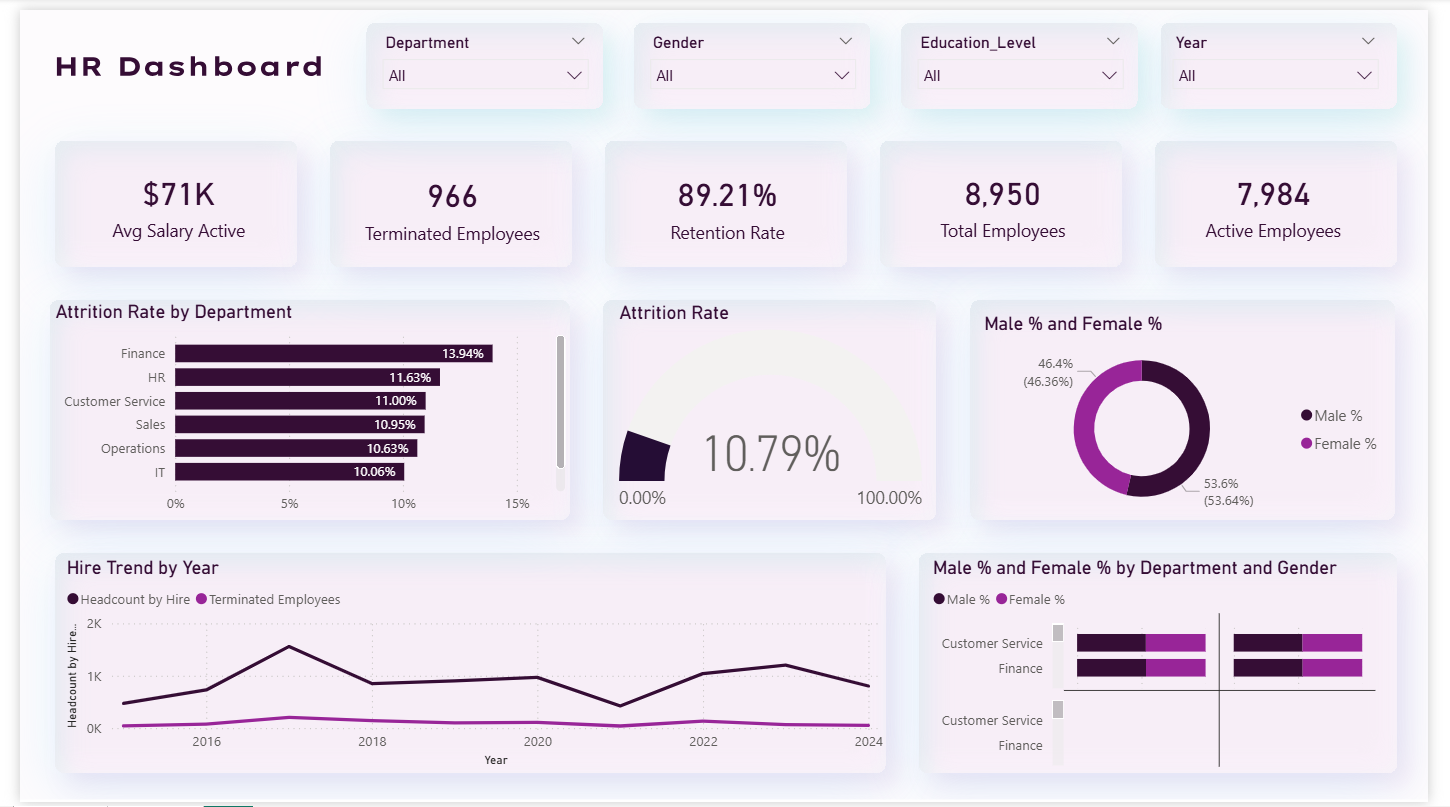

What the dashboard file says about the page in this screenshot:
{"tool":"powerbi","page":{"name":"Page 1","canvas":[1280,720],"ordinal":0},"visuals":[{"type":"card","fields":{"Values":["HR_dataset.Total Employees"]},"box":[789,123.5,209.9,104.3],"z":0},{"type":"card","fields":{"Values":["HR_dataset.Active Employees"]},"box":[1031.9,123.5,215.4,104.3],"z":1000},{"type":"card","fields":{"Values":["HR_dataset.Terminated Employees"]},"box":[286.8,126.2,214.1,104.3],"z":2000},{"type":"gauge","fields":{"Y":["HR_dataset.Attrition Rate"]},"box":[539.3,264.8,285.4,201.7],"z":3000},{"type":"card","fields":{"Values":["HR_dataset.Retention Rate"]},"box":[539.3,123.5,207.2,107],"z":4000},{"type":"barChart","fields":{"Y":["HR_dataset.Attrition Rate"],"Category":["HR_dataset.Department"]},"box":[27.4,263.5,473.4,203.1],"z":5000},{"type":"donutChart","fields":{"Y":["HR_dataset.Male %","HR_dataset.Female %"]},"box":[871.4,274.4,376,192.1],"z":6000},{"type":"hundredPercentStackedBarChart","fields":{"Category":["HR_dataset.Department"],"Y":["HR_dataset.Male %","HR_dataset.Female %"],"Rows":["HR_dataset.Gender"]},"box":[824.7,496.7,413,196.2],"z":7000},{"type":"card","fields":{"Values":["HR_dataset.Avg Salary Active"]},"box":[37,123.5,214.1,104.3],"z":7001},{"type":"lineChart","title":"Hire Trend by Year","fields":{"Category":["HR_dataset.Hiredate.Variation.Date Hierarchy.Year","HR_dataset.Hiredate.Variation.Date Hierarchy.Quarter","HR_dataset.Hiredate.Variation.Date Hierarchy.Month","HR_dataset.Hiredate.Variation.Date Hierarchy.Day"],"Y":["HR_dataset.Headcount by Hire","HR_dataset.Terminated Employees"]},"box":[37,496.7,752,196.2],"z":7002},{"type":"slicer","fields":{"Values":["HR_dataset.Department"]},"box":[319.7,16.5,207.2,65.9],"z":7003},{"type":"slicer","fields":{"Values":["HR_dataset.Education_Level"]},"box":[805.5,16.5,207.2,65.9],"z":7004},{"type":"slicer","fields":{"Values":["HR_dataset.Gender"]},"box":[562.6,16.5,207.2,65.9],"z":7005},{"type":"slicer","fields":{"Values":["HR_dataset.Hiredate.Variation.Date Hierarchy.Year"]},"box":[1037.4,16.5,207.2,65.9],"z":7006}]}

Visuals, with their boxes in screenshot pixels (x1, y1, x2, y2), scaled from the page's 1280x720 canvas onto the 1450x807 screenshot:
card - HR_dataset.Total Employees: 894,138,1132,255
card - HR_dataset.Active Employees: 1169,138,1413,255
card - HR_dataset.Terminated Employees: 325,141,567,258
gauge - HR_dataset.Attrition Rate: 611,297,934,523
card - HR_dataset.Retention Rate: 611,138,846,258
barChart - HR_dataset.Attrition Rate x HR_dataset.Department: 31,295,567,523
donutChart - HR_dataset.Male % x HR_dataset.Female %: 987,308,1413,523
hundredPercentStackedBarChart - HR_dataset.Department x HR_dataset.Male %: 934,557,1402,777
card - HR_dataset.Avg Salary Active: 42,138,284,255
"Hire Trend by Year" lineChart: 42,557,894,777
slicer - HR_dataset.Department: 362,18,597,92
slicer - HR_dataset.Education_Level: 912,18,1147,92
slicer - HR_dataset.Gender: 637,18,872,92
slicer - HR_dataset.Hiredate.Variation.Date Hierarchy.Year: 1175,18,1410,92
